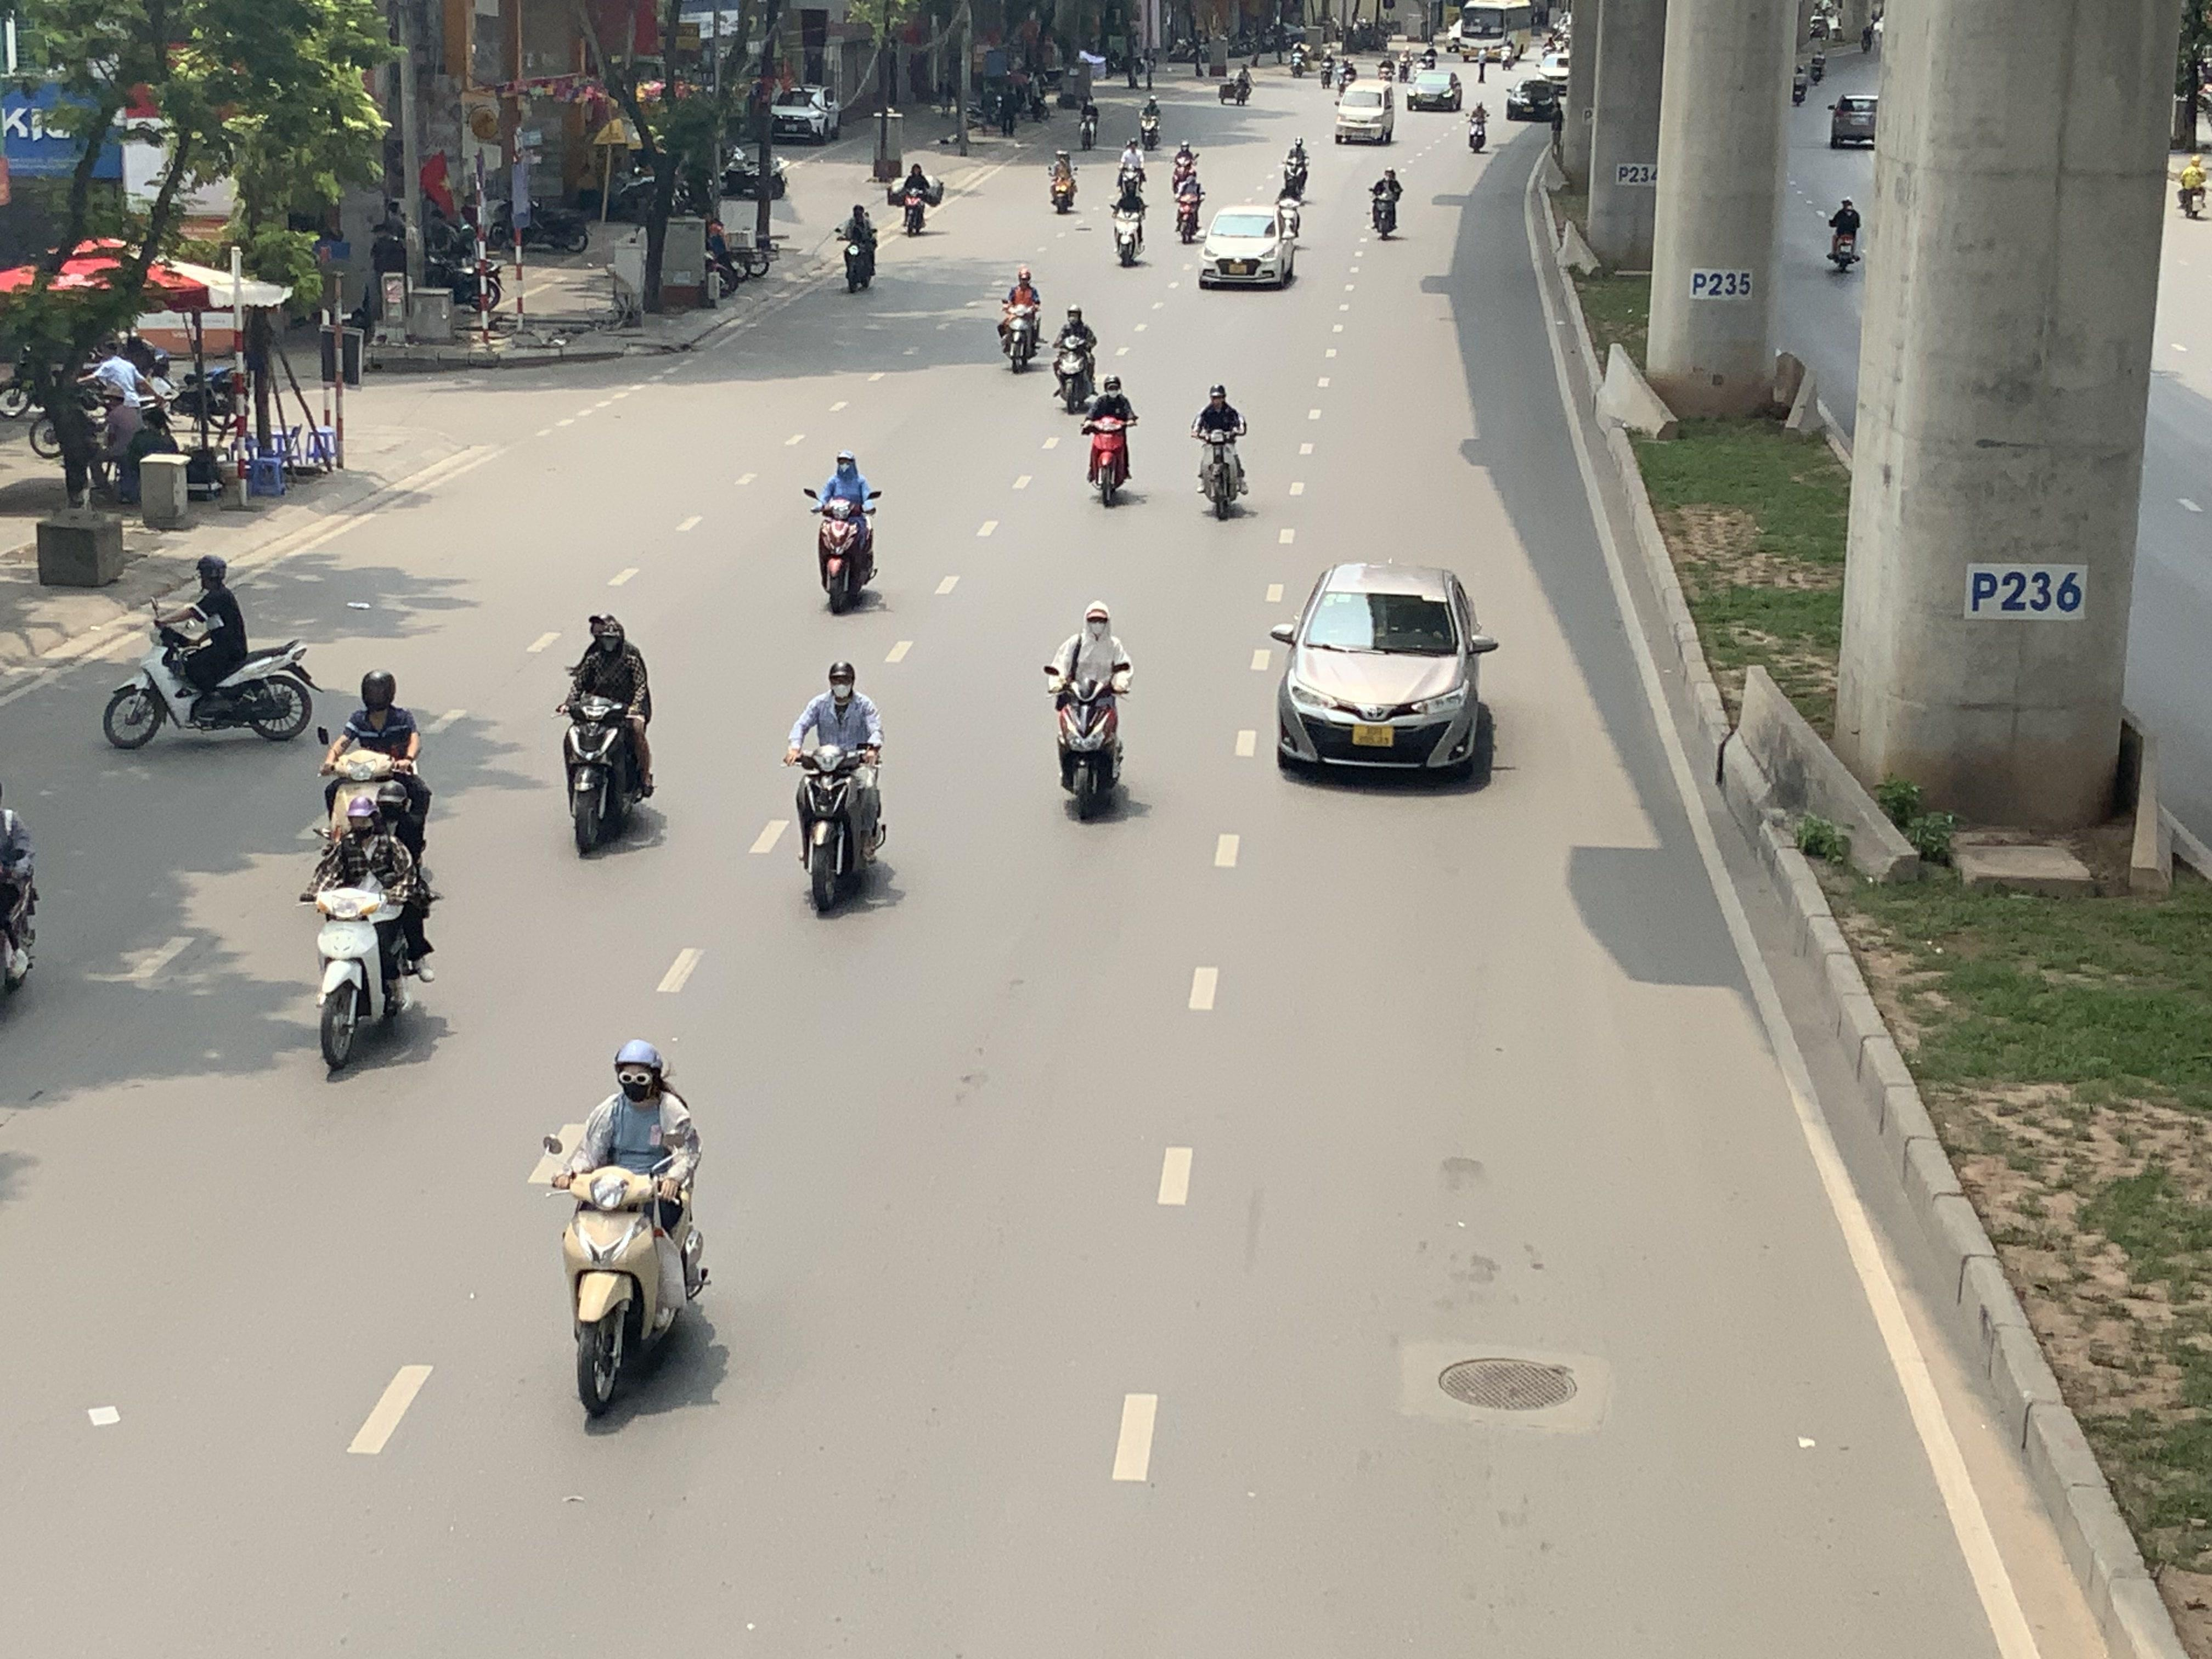BSV: (1352, 725, 1393, 746)
car: (1268, 561, 1500, 784), (1197, 204, 1299, 291), (768, 85, 841, 143), (1332, 82, 1397, 145), (1827, 91, 1881, 148), (1505, 73, 1568, 122), (1406, 66, 1463, 112)
motorbike: (543, 1039, 709, 1429), (103, 556, 319, 751), (303, 791, 435, 1080), (786, 660, 888, 918), (557, 612, 657, 859), (315, 667, 428, 857), (1047, 601, 1132, 824), (808, 450, 883, 615), (1193, 382, 1251, 521), (1083, 373, 1137, 507), (1050, 305, 1101, 413), (998, 267, 1045, 373), (836, 202, 880, 295), (1109, 174, 1150, 267), (895, 159, 937, 237), (1825, 195, 1864, 274), (1367, 164, 1404, 242), (1172, 164, 1205, 246), (2175, 146, 2212, 220), (1047, 145, 1080, 214), (1115, 138, 1150, 200), (1217, 54, 1254, 106), (1275, 178, 1303, 242), (1282, 134, 1312, 192), (1136, 92, 1163, 153), (1170, 139, 1198, 197), (1465, 98, 1491, 153), (1078, 92, 1099, 150)
